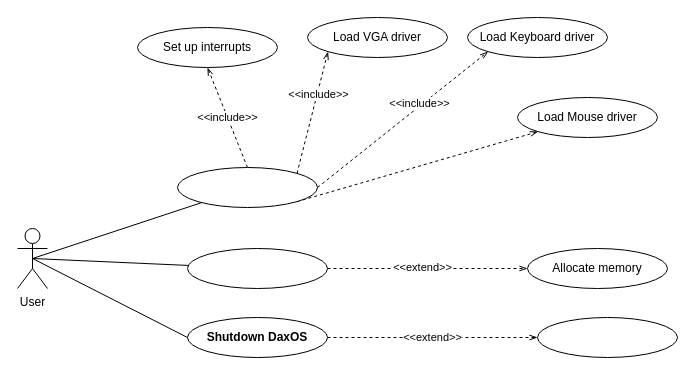
This 695x375 diagram has some shape labels left out. Here are the shapes that lost their labels. From the top down, the box of each, then its label:
(176, 166, 318, 208): Boot DaxOS
(186, 248, 328, 288): Enter Command
(536, 316, 678, 358): ACPI Shutdown
